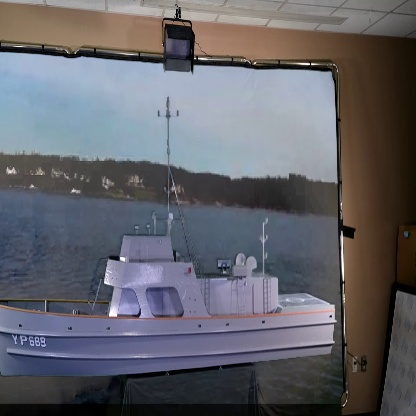YP689: (0, 70, 337, 382)
